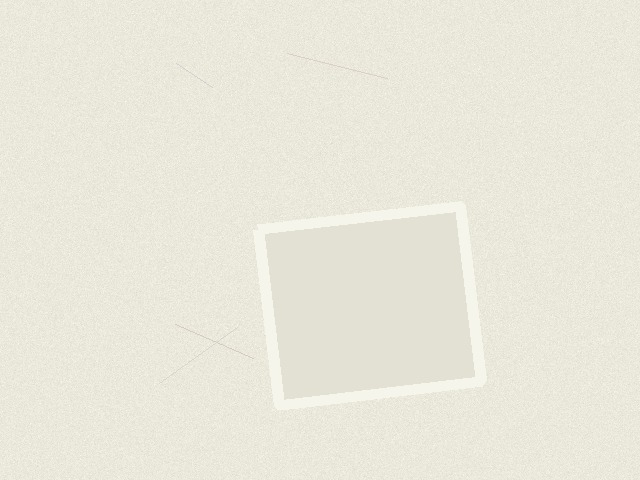parking_area: (258, 206, 481, 405)
